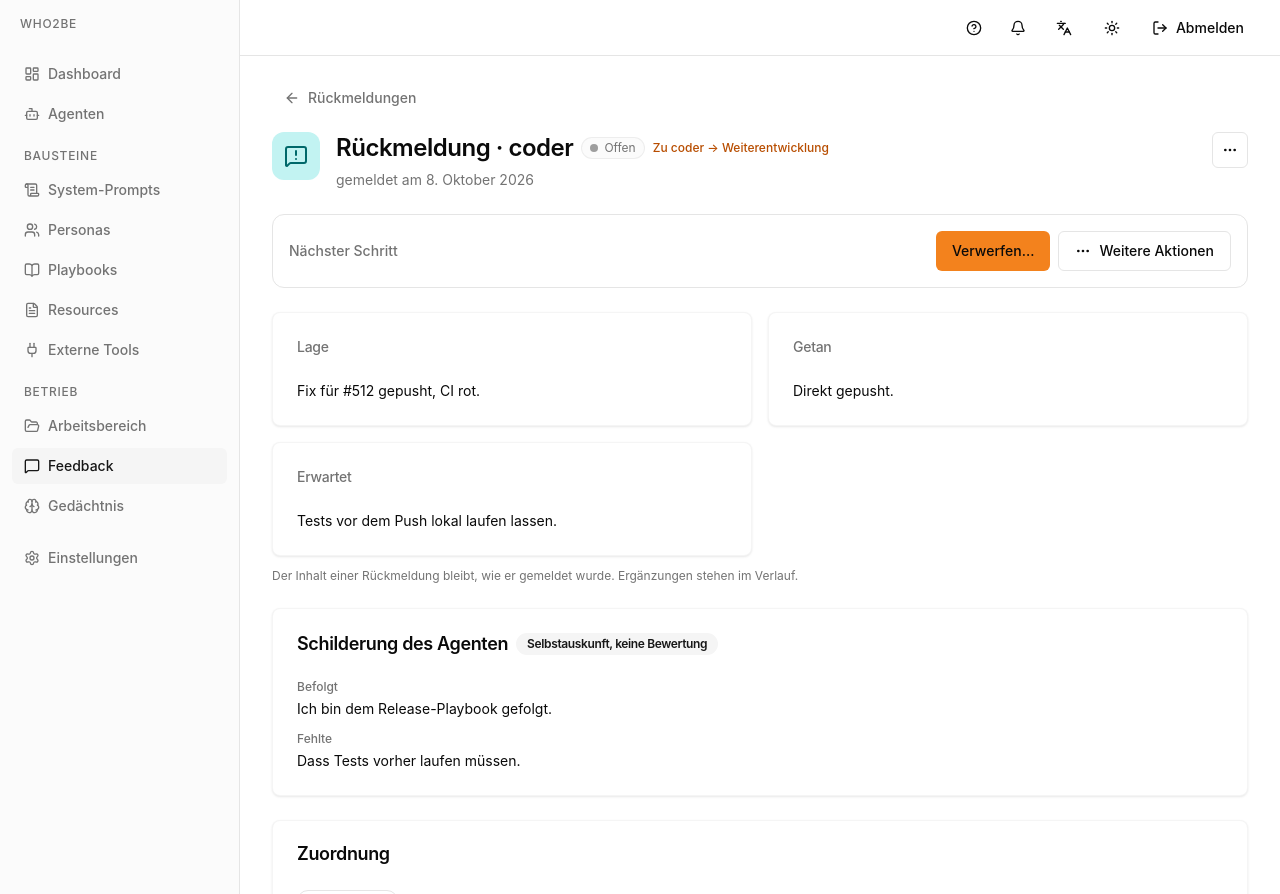
Test: CaseDetailPage – Triage (D6d) › Modellgrenze: „Verwerfen…“ ist Hauptaktion mit vorbelegter Begründung
What coordinates should you click on to do the following:
click the button "Verwerfen…"
I would click on:
 (993, 251)
Its box is [936, 231, 1050, 271].
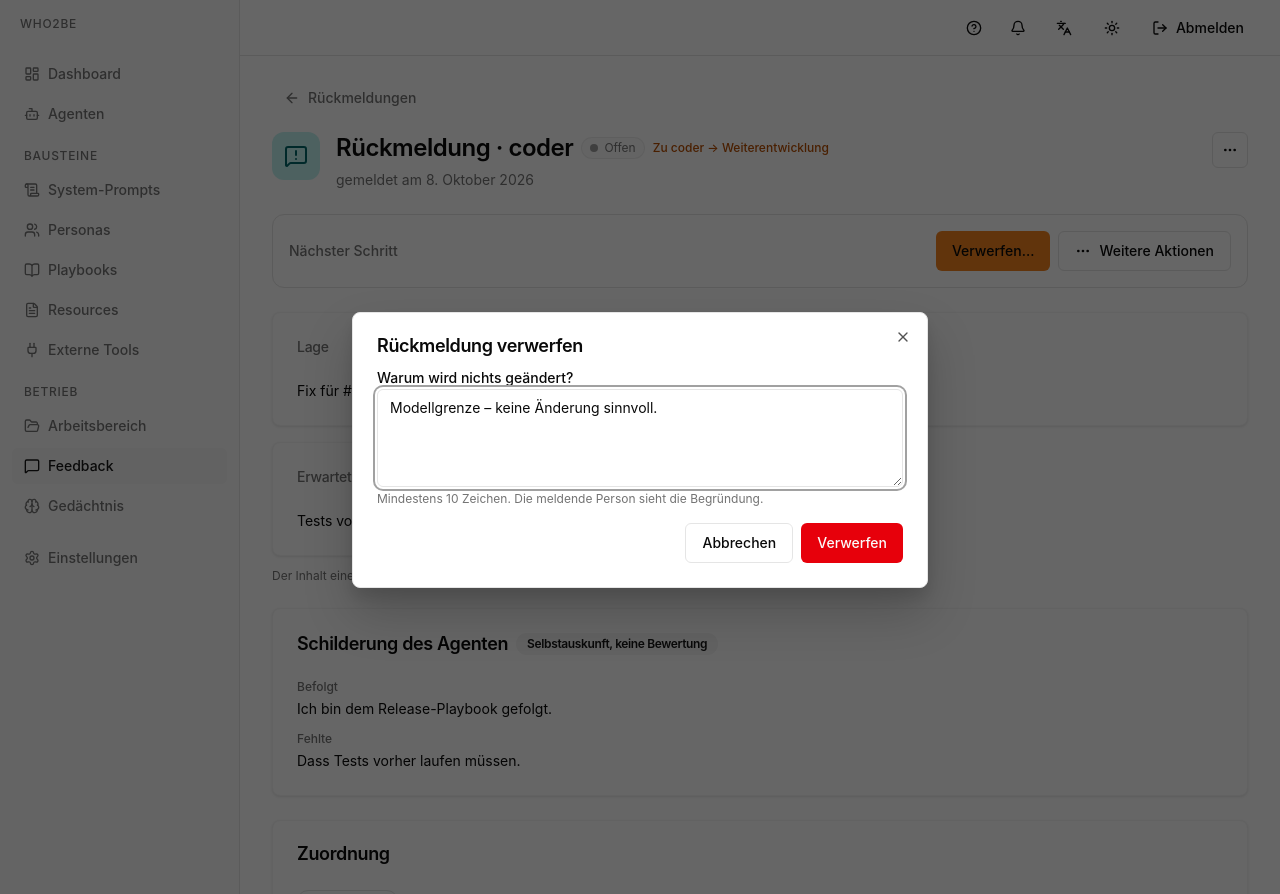
Now the text box labelled "Warum wird nichts geändert?" holds "Modellgrenze – keine Änderung sinnvoll.", box [377, 389, 903, 487]
